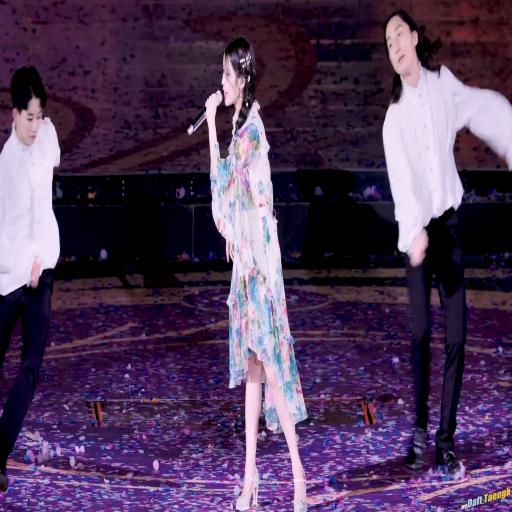IU: (221, 37, 256, 108)
